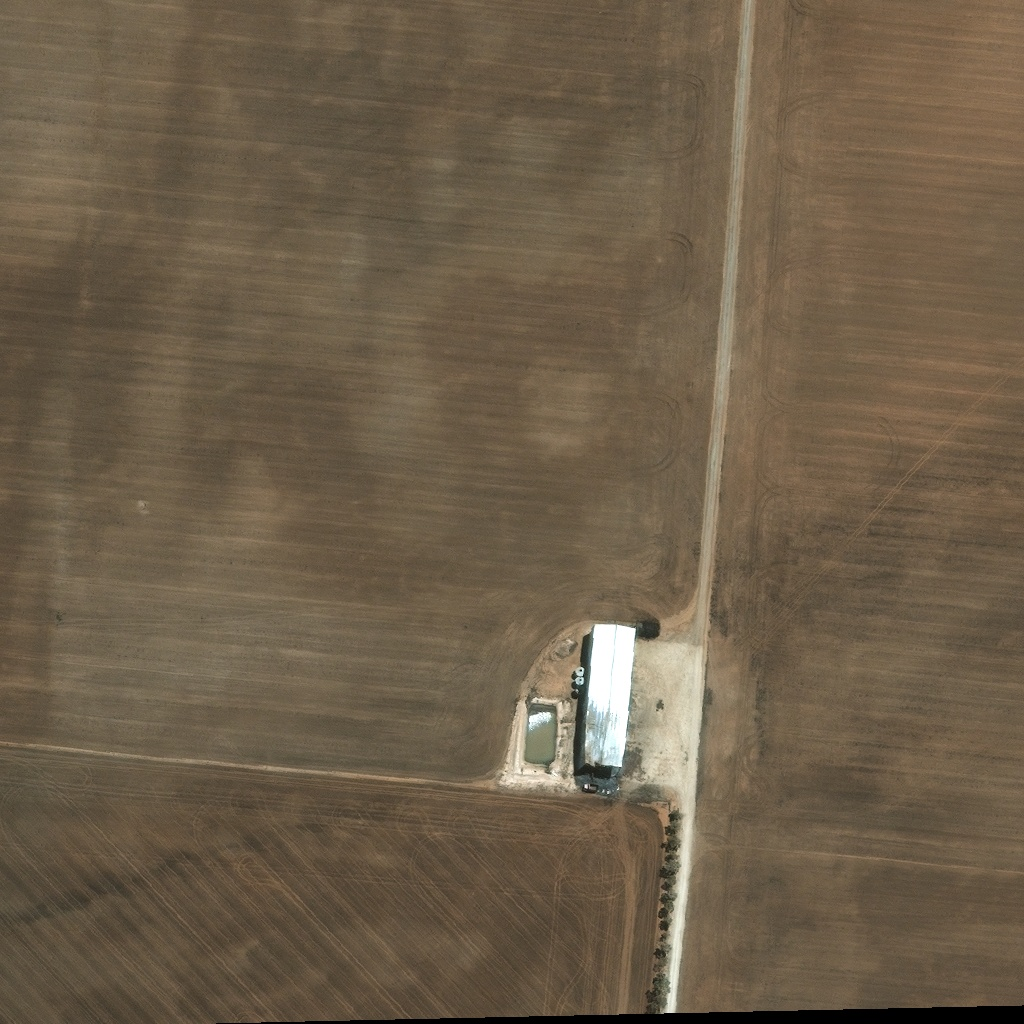1 minor-damage: (579, 629, 635, 776)
3 destroyed: (583, 785, 588, 790)
